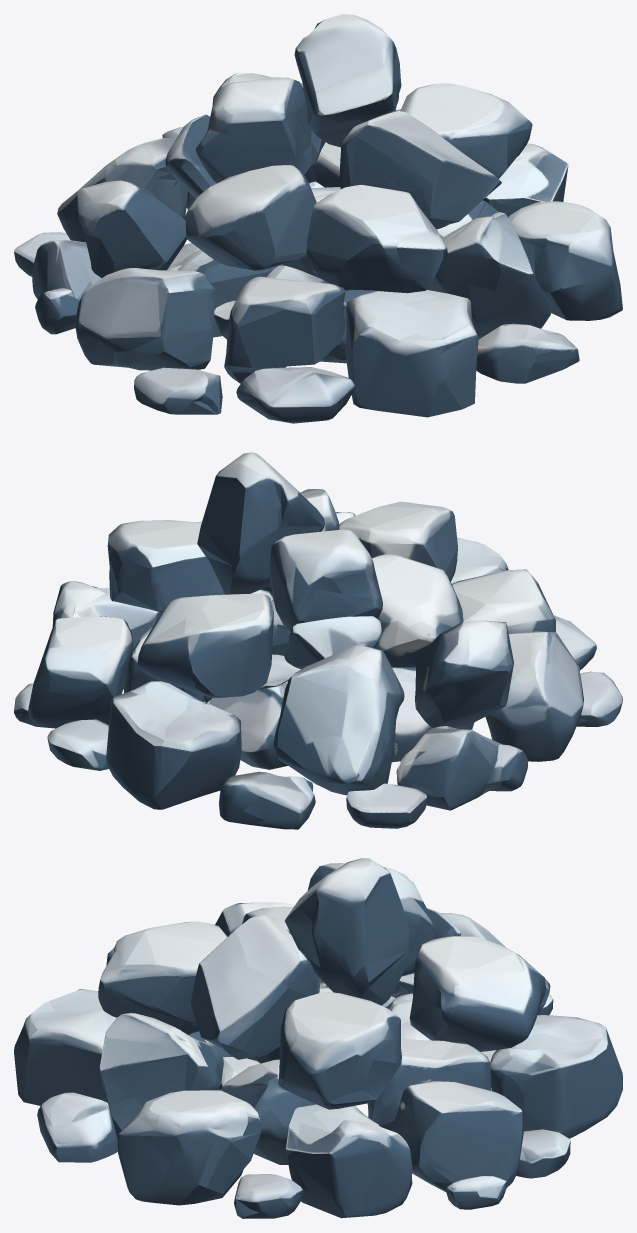
Rendered from stone_deposit.glb.
3 views of the same model, one above another, from view 1: azimuth 30°, elevation 25°; view 2: azimuth 150°, elevation 25°; view 3: azimuth 270°, elevation 25° (orthographic). The views are drawn at different scales.
Bounding box in the file's own units: 1.84 × 0.8881 × 1.9.
Materials: 1 (1 with a texture image).
